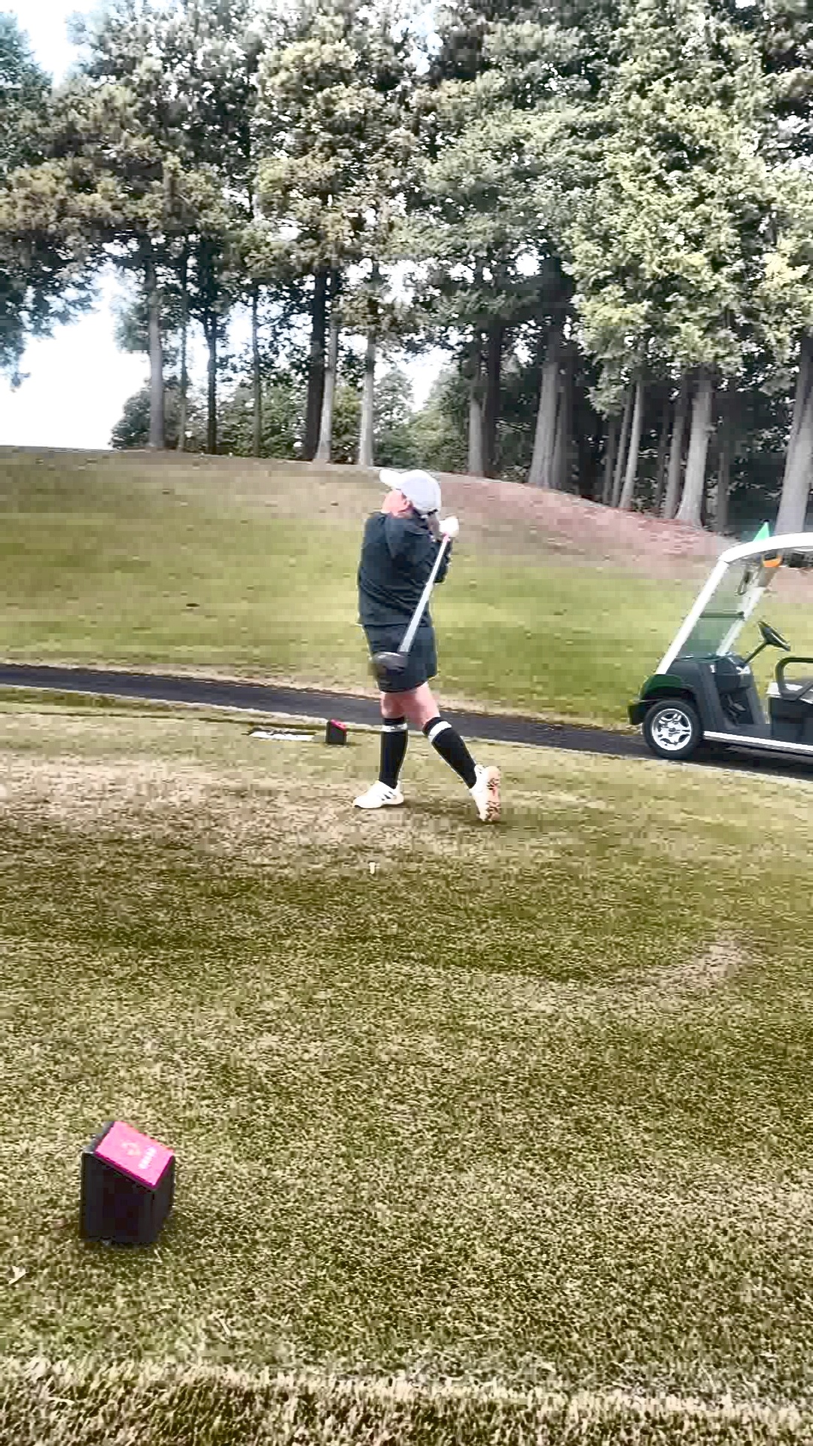clubhead: (321, 623, 465, 718)
